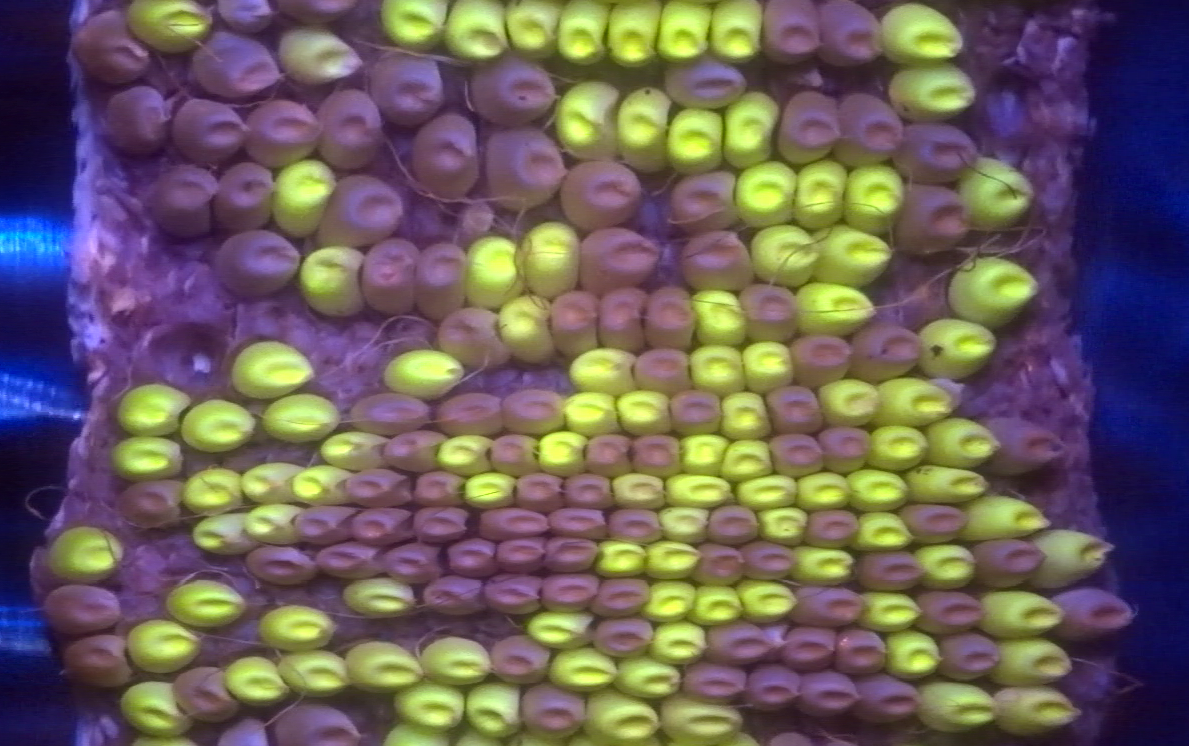fluorescent: (953, 259, 1039, 322), (960, 152, 1030, 226), (557, 85, 619, 162), (882, 5, 964, 62), (278, 23, 362, 78), (919, 318, 996, 378), (1029, 534, 1114, 587), (889, 65, 976, 116), (300, 247, 365, 315), (49, 527, 124, 585), (231, 340, 313, 393), (276, 158, 332, 235), (518, 225, 578, 296), (812, 227, 885, 285), (621, 88, 675, 166), (990, 687, 1081, 733), (797, 282, 877, 333), (122, 4, 212, 49), (977, 593, 1065, 638), (846, 164, 904, 232), (753, 224, 817, 283), (913, 687, 998, 731), (445, 1, 506, 61), (116, 684, 193, 731), (343, 647, 423, 692), (877, 380, 955, 426), (728, 93, 774, 170), (736, 163, 793, 225), (500, 297, 556, 360), (164, 583, 247, 625), (587, 691, 654, 743), (383, 350, 457, 397), (465, 241, 521, 303), (994, 638, 1069, 684), (659, 699, 743, 740), (125, 620, 198, 667), (791, 160, 846, 222), (606, 4, 659, 67), (962, 500, 1047, 539), (421, 638, 491, 685), (181, 403, 255, 447), (671, 107, 721, 172), (111, 436, 183, 481), (904, 464, 988, 502), (260, 607, 334, 650), (116, 386, 185, 432), (559, 3, 610, 65), (691, 287, 747, 343), (265, 397, 338, 439), (547, 645, 615, 690), (655, 2, 707, 58), (928, 422, 995, 465), (225, 657, 285, 705), (506, 4, 557, 60), (465, 687, 524, 735), (342, 578, 414, 617), (854, 588, 919, 631), (395, 688, 463, 729), (569, 348, 635, 390), (279, 655, 348, 695), (712, 6, 762, 61), (381, 2, 442, 46), (740, 342, 795, 389), (817, 382, 880, 423), (684, 348, 744, 391), (618, 393, 679, 435), (868, 424, 922, 471), (881, 633, 937, 678), (738, 581, 796, 623), (615, 658, 679, 696), (846, 469, 906, 509), (675, 431, 728, 475), (563, 392, 621, 432), (184, 473, 242, 512), (917, 548, 978, 585), (435, 434, 492, 472), (723, 393, 773, 436), (528, 612, 591, 646), (794, 547, 850, 585), (647, 540, 701, 579), (689, 583, 743, 622), (241, 468, 302, 502), (539, 428, 584, 474), (855, 513, 914, 548), (245, 508, 302, 544), (192, 515, 246, 553), (321, 432, 386, 463), (665, 476, 732, 506), (293, 467, 350, 502), (652, 624, 703, 663), (458, 473, 514, 507), (723, 440, 767, 483), (613, 473, 665, 509), (645, 584, 693, 622), (796, 474, 848, 509), (735, 478, 797, 506), (659, 509, 709, 543), (759, 510, 808, 544), (597, 542, 644, 574), (383, 729, 449, 745)
nonfluorescent: (317, 174, 406, 249), (213, 229, 303, 299), (189, 34, 284, 100), (489, 130, 562, 214), (73, 15, 155, 85), (409, 114, 479, 196), (142, 164, 216, 239), (317, 88, 383, 172), (576, 225, 661, 290), (896, 116, 976, 184), (369, 49, 445, 120), (473, 61, 555, 125), (96, 85, 166, 159), (245, 96, 321, 164), (562, 160, 642, 224), (898, 183, 967, 255), (839, 90, 903, 167), (215, 160, 278, 238), (363, 237, 420, 323), (985, 416, 1069, 474), (171, 103, 252, 163), (756, 1, 823, 70), (778, 89, 838, 164), (416, 239, 469, 323), (821, 1, 885, 70), (682, 230, 755, 290), (658, 62, 748, 109), (667, 171, 738, 230), (56, 633, 134, 686), (41, 583, 128, 630), (1053, 591, 1136, 640), (271, 702, 363, 746), (436, 311, 510, 363), (969, 540, 1046, 589), (855, 323, 922, 376), (791, 583, 867, 629), (172, 664, 235, 719), (346, 390, 430, 431), (115, 478, 182, 529), (547, 288, 600, 351), (740, 283, 797, 341), (599, 284, 648, 351), (789, 335, 852, 386), (937, 630, 1006, 676), (800, 670, 862, 720), (245, 543, 317, 586), (503, 386, 567, 434), (438, 391, 505, 436), (853, 676, 917, 723), (524, 683, 585, 732), (648, 284, 694, 347), (680, 660, 749, 702), (833, 628, 893, 676), (346, 468, 417, 508), (769, 386, 828, 434), (905, 505, 971, 546), (856, 551, 925, 590), (821, 426, 876, 473), (316, 544, 382, 583), (710, 623, 776, 662), (594, 616, 653, 659), (746, 668, 803, 712), (542, 571, 602, 612), (921, 593, 985, 631), (385, 432, 440, 475), (706, 503, 765, 543), (483, 573, 542, 613), (672, 390, 726, 433), (494, 636, 552, 676), (410, 505, 471, 543), (769, 434, 824, 476), (477, 509, 551, 540), (420, 578, 482, 615), (636, 348, 690, 390), (382, 544, 445, 580), (582, 436, 635, 478), (743, 542, 795, 584), (293, 506, 352, 543), (355, 507, 410, 546), (219, 1, 276, 38), (549, 505, 609, 540), (785, 630, 835, 671), (449, 540, 501, 579), (596, 578, 653, 613), (696, 543, 743, 585), (806, 510, 859, 547), (273, 1, 357, 24), (633, 432, 680, 472), (539, 542, 599, 573), (562, 474, 615, 508), (610, 510, 663, 543), (492, 437, 540, 473), (417, 472, 465, 508), (517, 475, 562, 509), (496, 541, 543, 572), (215, 719, 267, 746)
